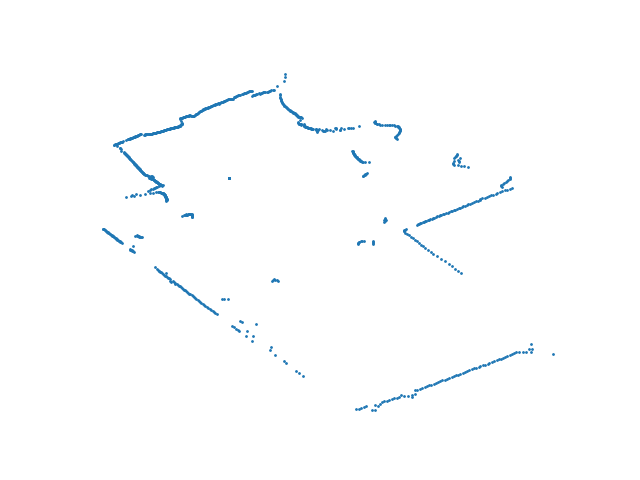person: (349, 147, 373, 180)
